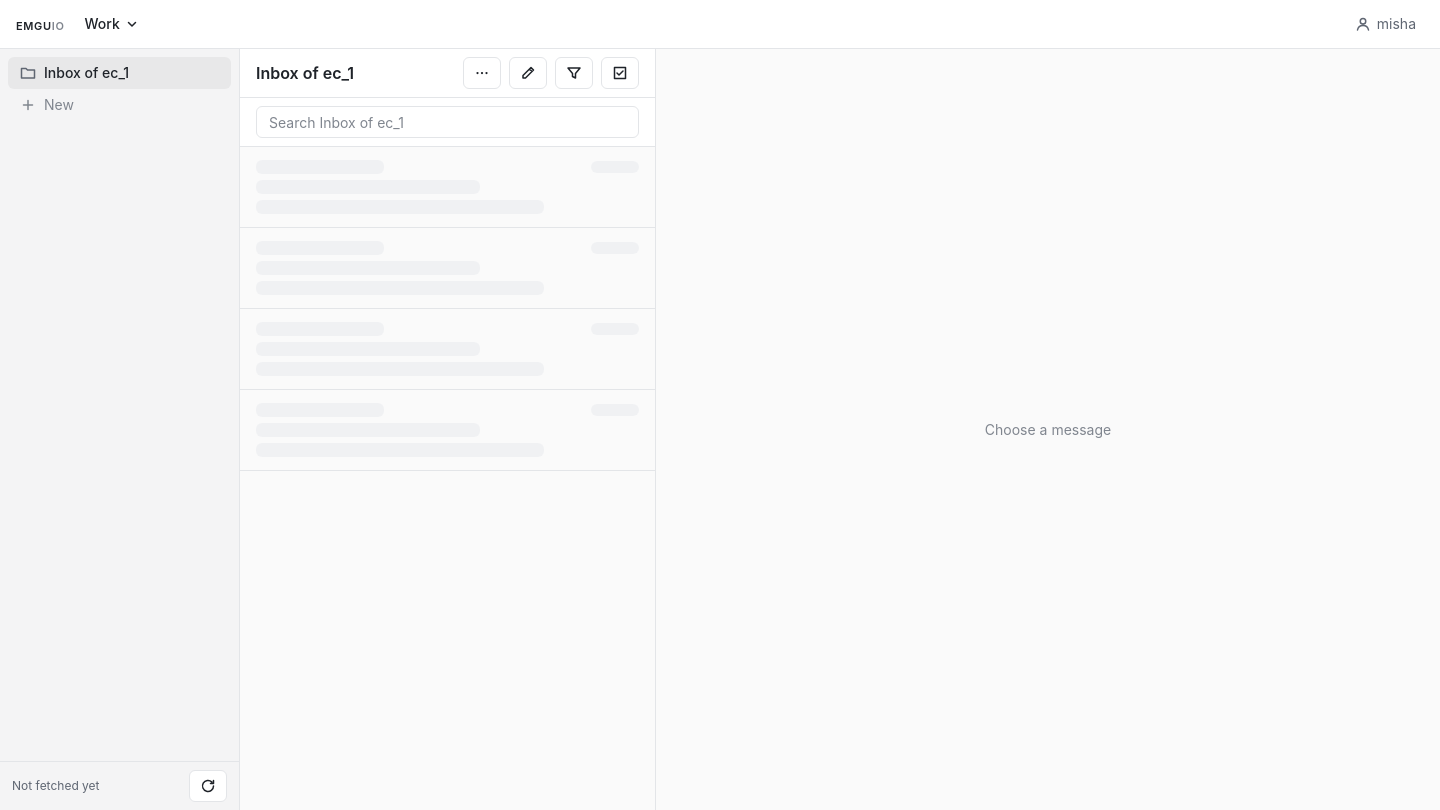
Test: the application › switches mail account from the header
The width and height of the screenshot is (1440, 810).
Expected: the heading "Inbox of ec_1" is shown, x1=256 y1=63 x2=354 y2=83
Click the button "Work" at [112, 24], box x1=76 y1=8 x2=148 y2=40
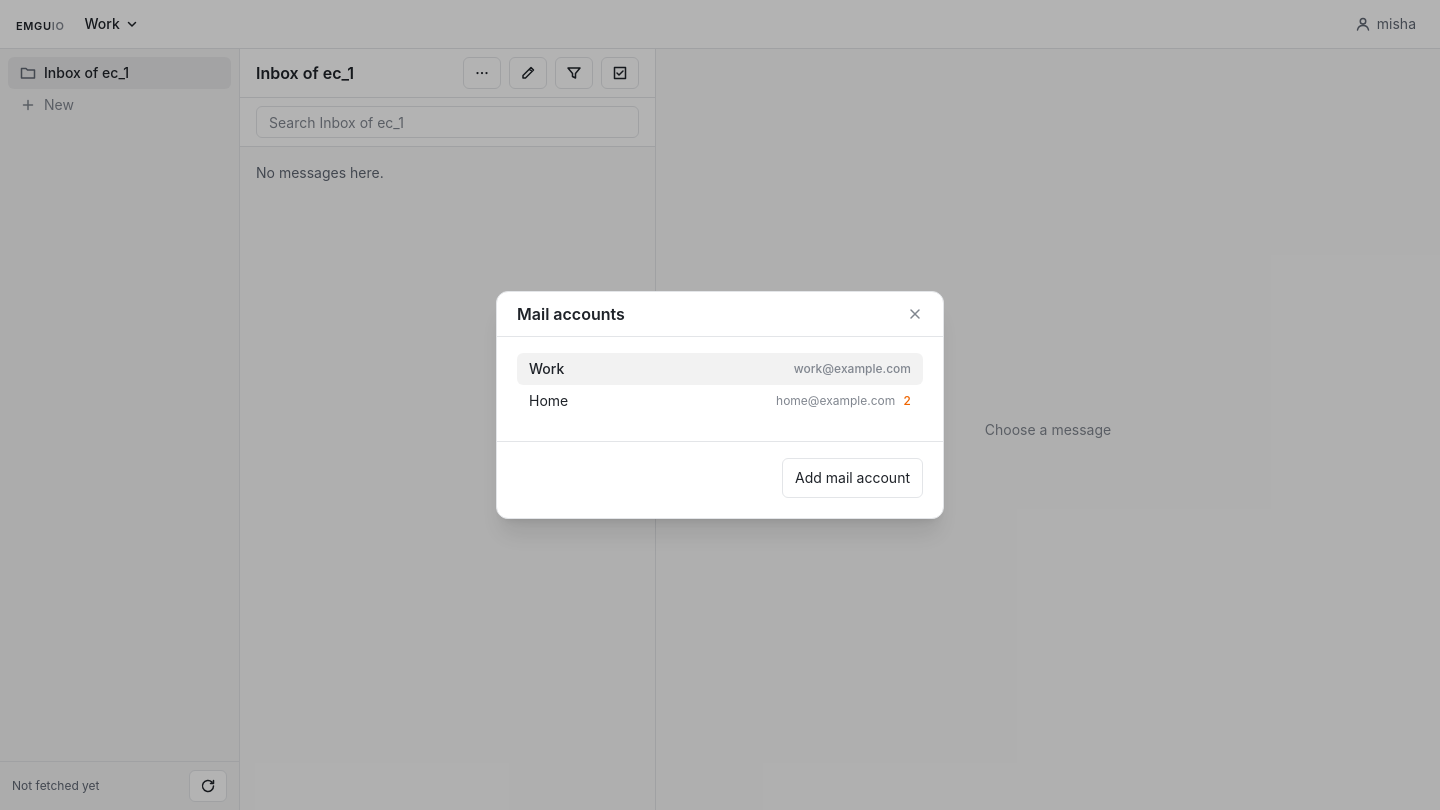
Now the heading "Mail accounts" is shown, box x1=517 y1=302 x2=625 y2=326
Now the links read "Workwork@example.com", "Homehome@example.com, unread in Inbox: 2", "Add mail account", in this order, box x1=517 y1=353 x2=923 y2=385; x1=529 y1=392 x2=943 y2=409; x1=782 y1=458 x2=923 y2=498
Click the link "Home home@example.com 2" at [549, 400], box x1=529 y1=392 x2=1000 y2=409
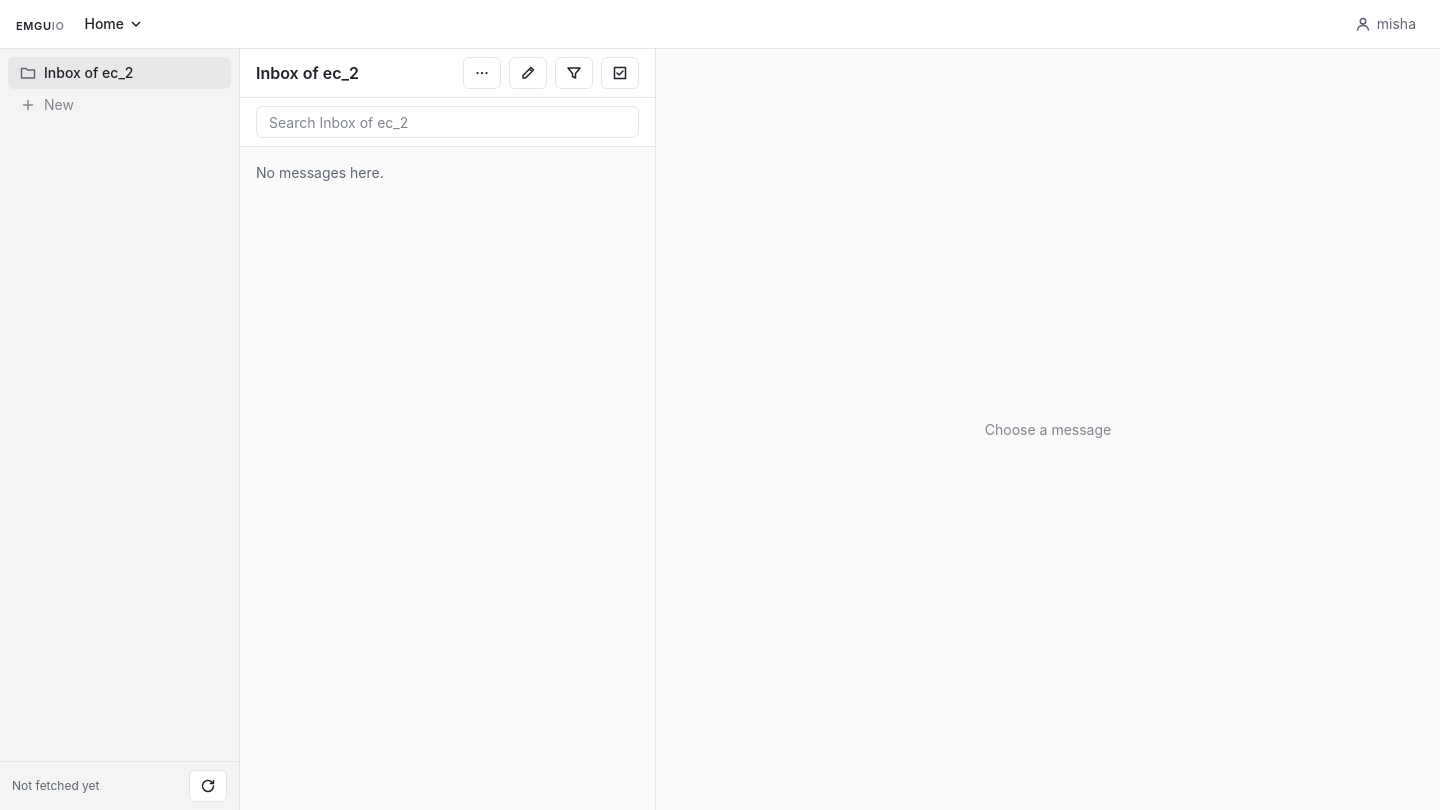
Now the heading "Inbox of ec_2" is shown, box x1=256 y1=63 x2=359 y2=83
Now the dialog is gone
